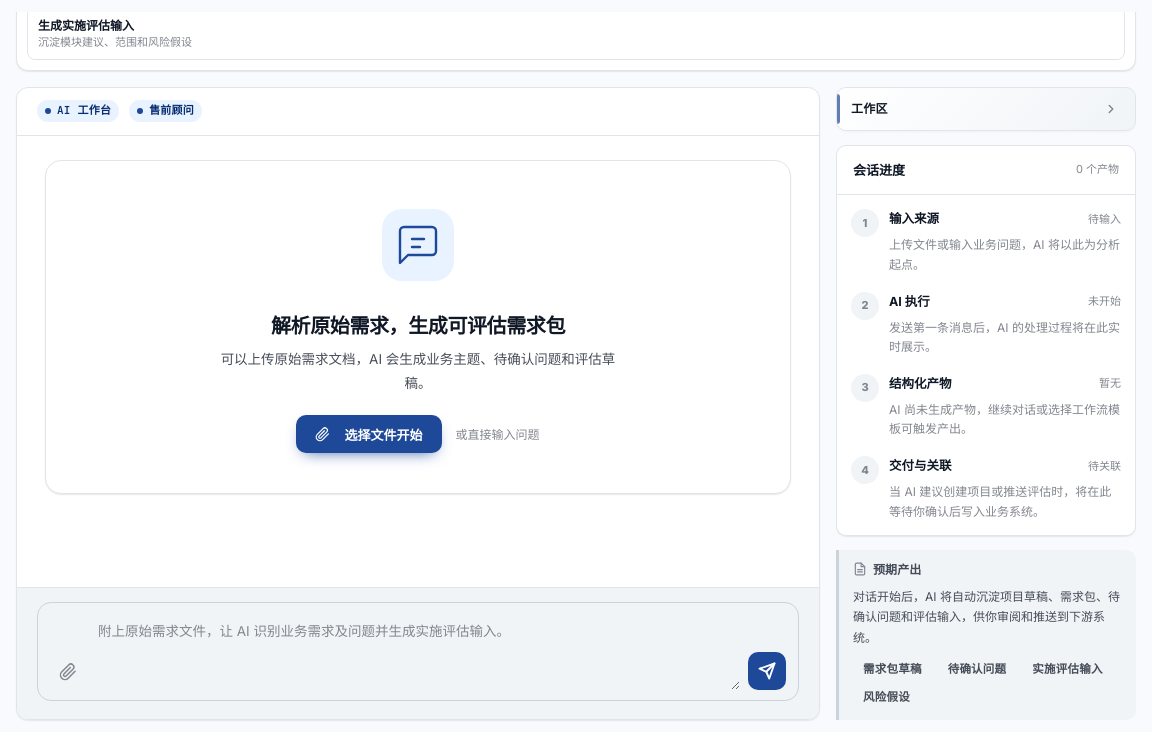
Test: unified-view: O5 统一视图首屏接入 › unified-view: 发问后统一视图刷新发现新 run，O8 页面级流式订阅建立并逐字呈现（ISS-2026-08-10-003）
(page scrolled)
In the text box named "AI 工作台输入": {"x": 417, "y": 652} [94, 614, 740, 690], type "流式发现验证"
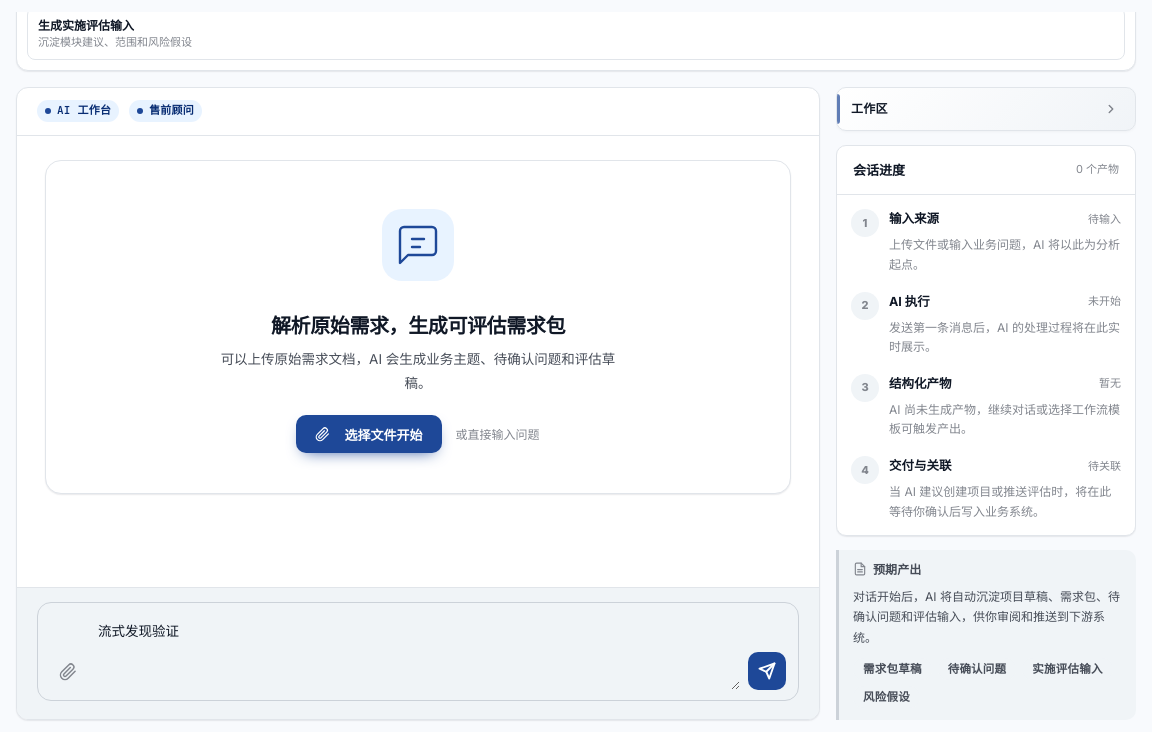
Click the button named "发送消息": {"x": 767, "y": 671} [748, 652, 786, 690]
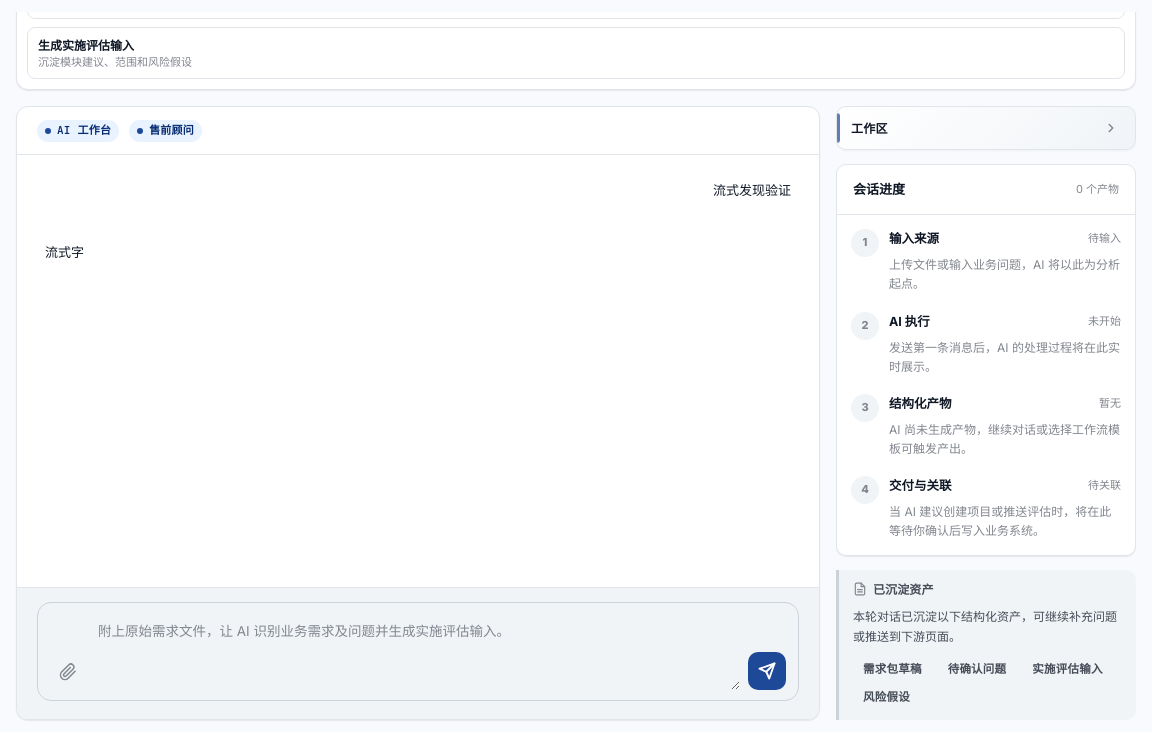
Now the text "流式字" is shown, box [45, 244, 84, 260]
